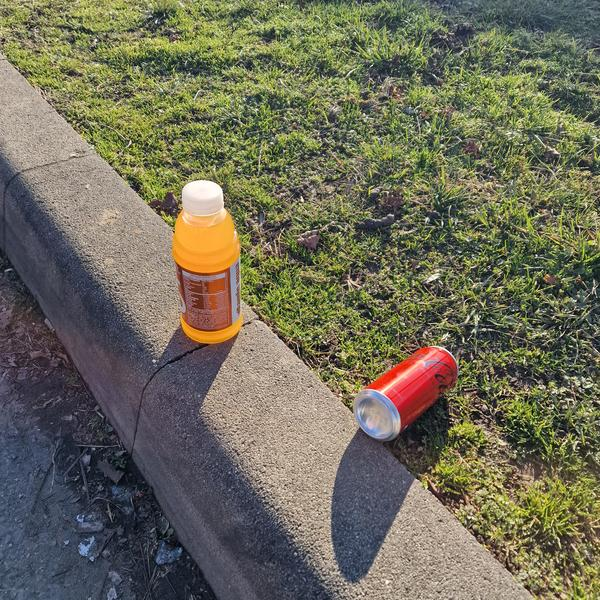can: (343, 331, 471, 449)
plastic_bottle: (168, 177, 247, 349)
